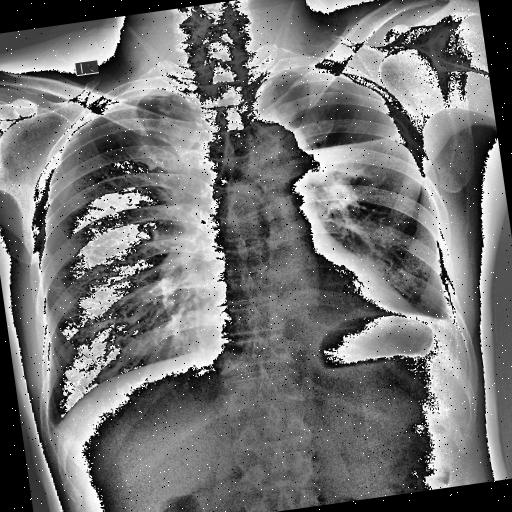10- Pleural effusion: (424, 300, 460, 336), (430, 303, 462, 341), (430, 304, 458, 338)
11- Pleural thickening: (303, 56, 388, 118), (101, 82, 185, 112), (114, 82, 176, 104), (424, 300, 460, 336), (430, 303, 462, 341), (430, 304, 458, 338)
4- Consolidation: (300, 133, 424, 190)
7- Lung Opacity: (300, 133, 424, 190), (298, 128, 412, 173)
9- Other lesion: (274, 68, 404, 186), (300, 133, 424, 190), (298, 128, 412, 173)
